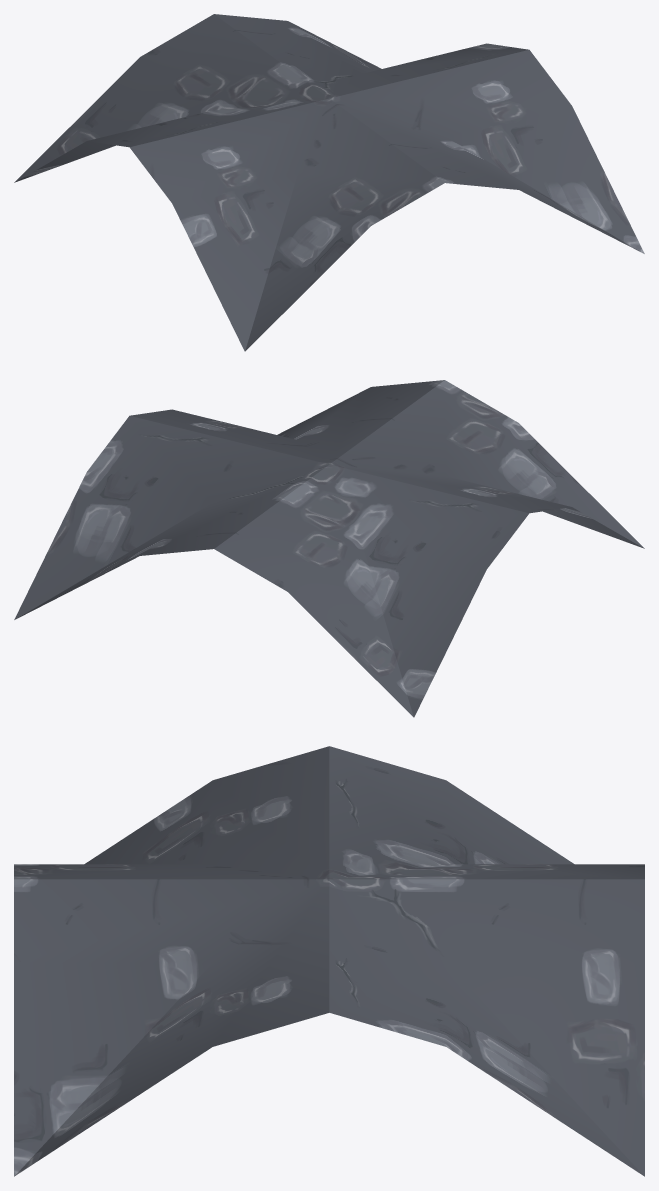
File: Techo_6.fbx
3 views of the same model, one above another, from view 1: azimuth 30°, elevation 25°; view 2: azimuth 150°, elevation 25°; view 3: azimuth 270°, elevation 25° (orthographic). The views are drawn at different scales.
Parts seen in each view (by area): view 1: Techos5; view 2: Techos5; view 3: Techos5.
Boxes of the visible parts, <box> form: Techos5: <box>14,14,644,351</box>; Techos5: <box>14,380,644,717</box>; Techos5: <box>14,746,644,1176</box>.
Bounding box in the file's own units: 14 × 4.02 × 14.
